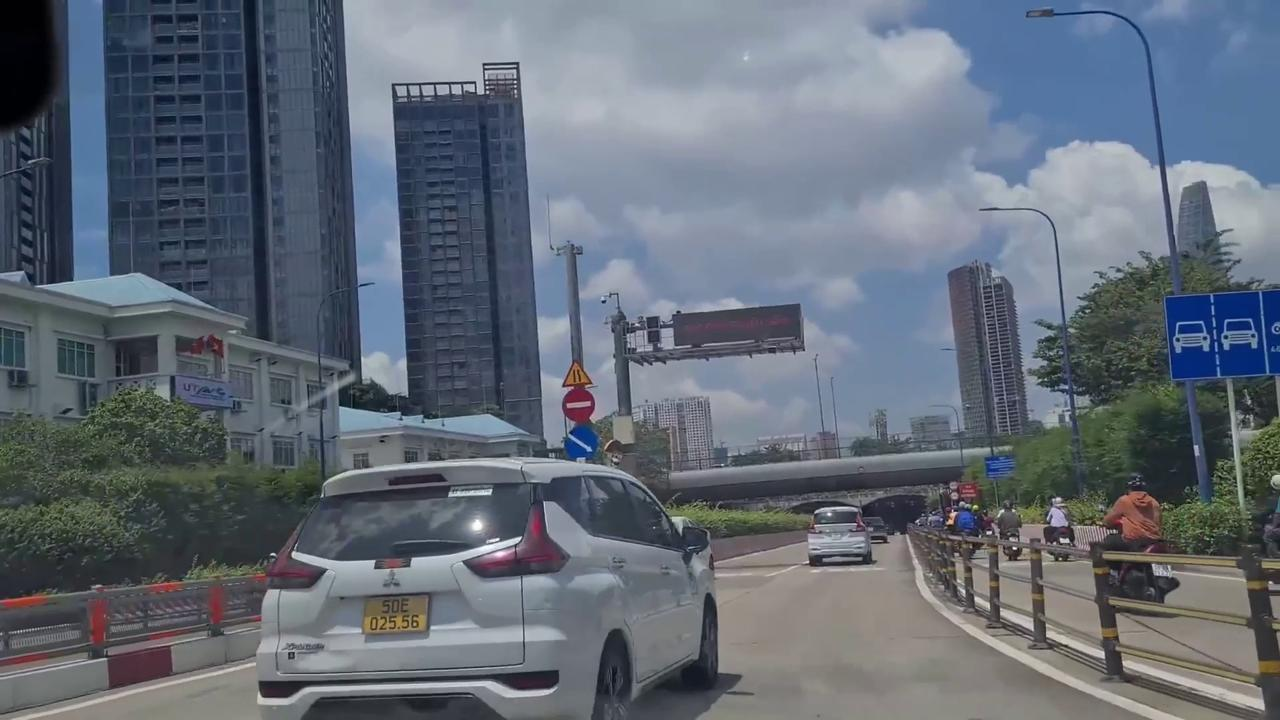Cấm đi ngược chiều: (560, 388, 597, 422)
Hướng phải đi vòng sang phải: (565, 424, 599, 460)
Làn đường cho từng xe: (1162, 292, 1280, 379)
Đuờng hẹp: (558, 359, 594, 387)
